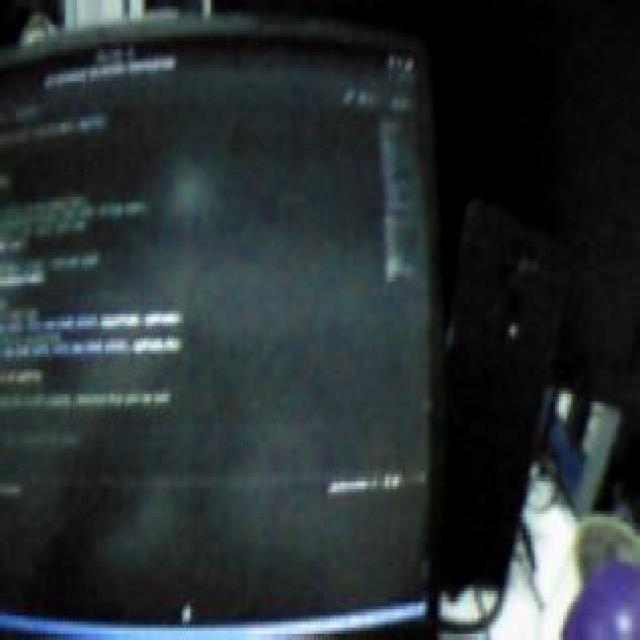BallPurple: (565, 562, 640, 640)
